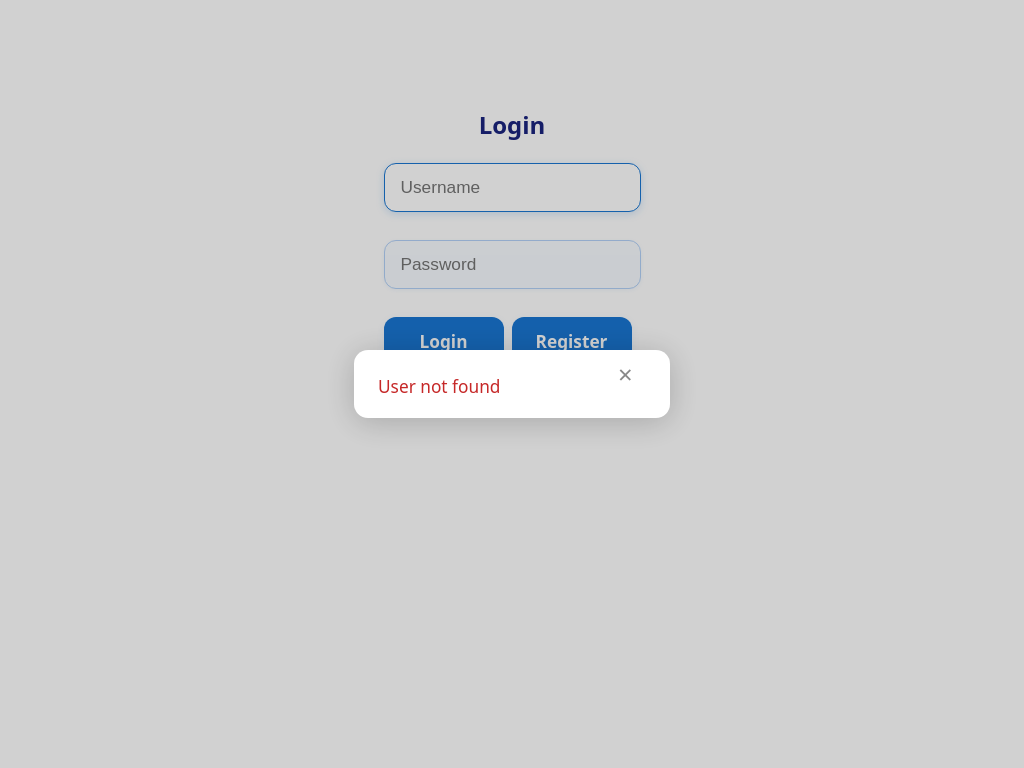
Test: LoginForm › closes error popup when close button is clicked
Check: the text "User not found" is shown, box [378,375,500,398]
# Click the close (×) button
Click the button named "close" at [625, 374], box [595,358,656,390]
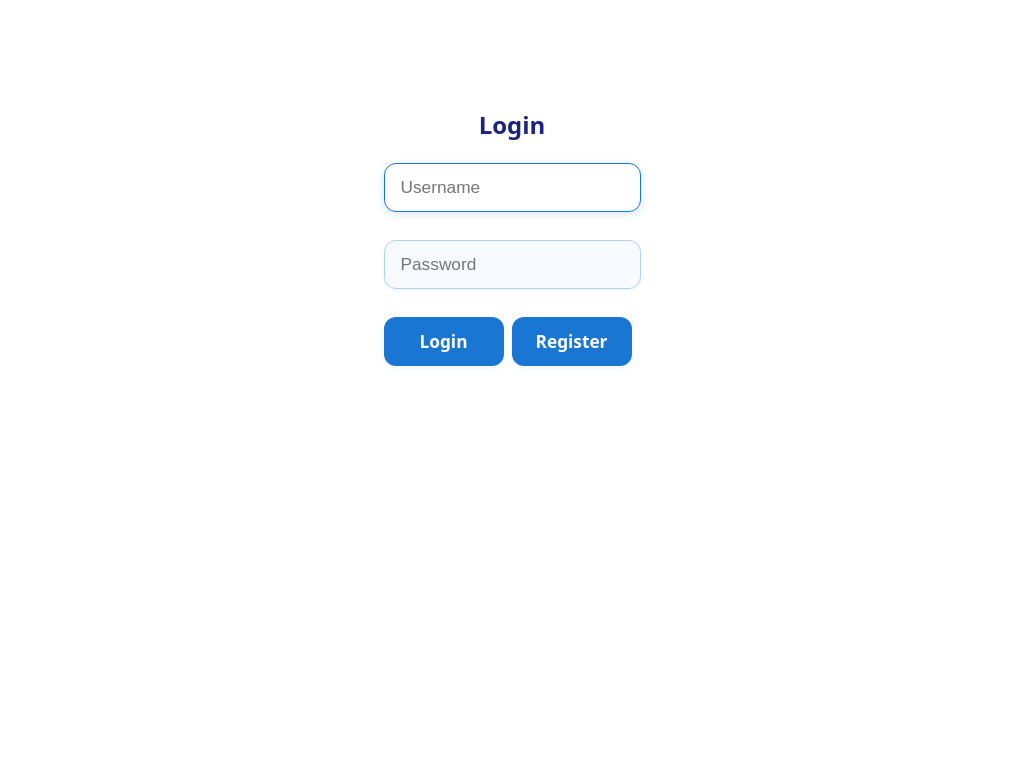
Check: the text "User not found" is gone
